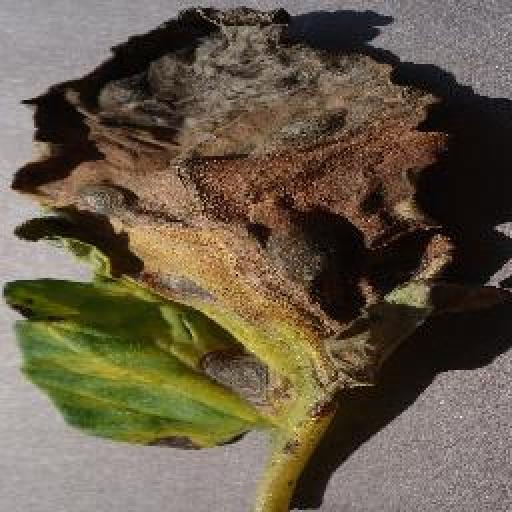Early Blight: (10, 6, 456, 446)
